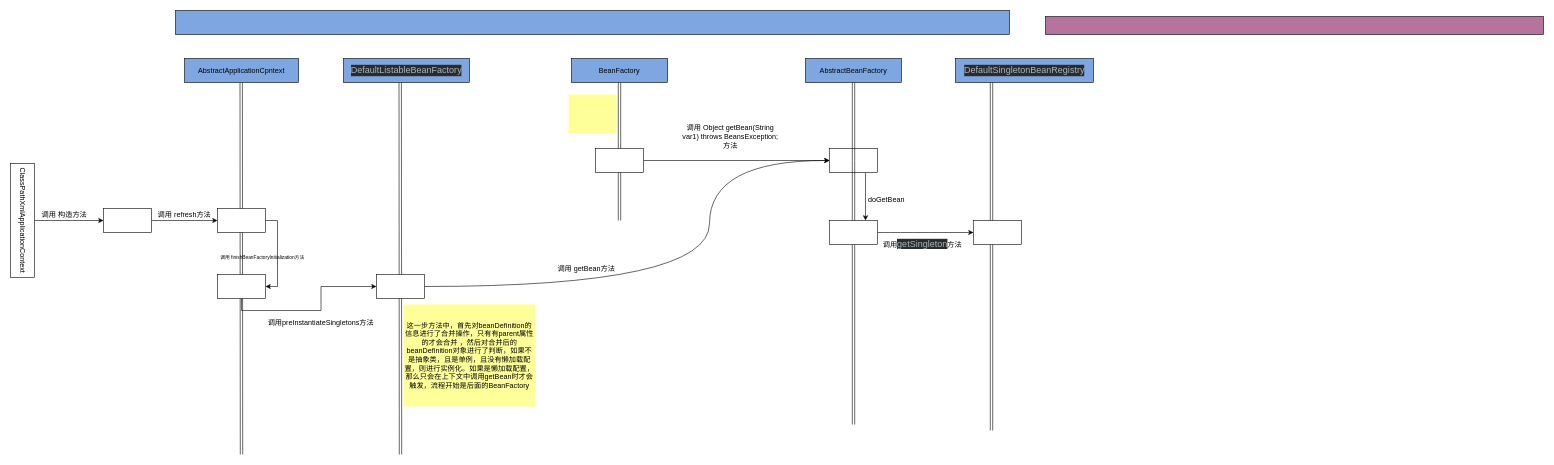
Image size: 1554x465. Some labels were removed from this diagram. Each missing label, with the centre of its shape:
实例化: point 592,22
懒加载配置，手动getBean: point 592,113
注入: point 1294,25
